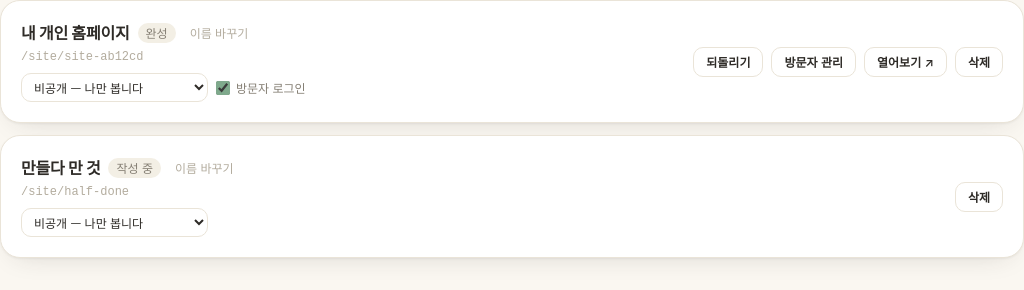
[P7-1b] 프로젝트 이름 바꾸기 › 빈 이름으로는 저장 버튼이 눌리지 않는다
Click the button "이름 바꾸기" next to "완성" at [219, 33], box [184,23,254,43]
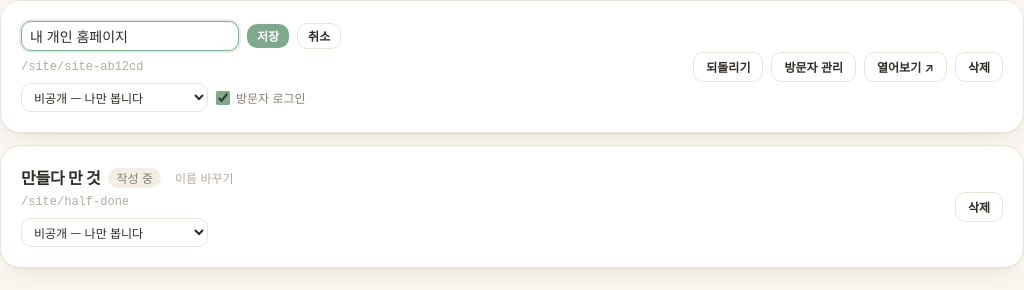
Clear the field named "프로젝트 이름" at [130, 36], box [21,21,239,51]
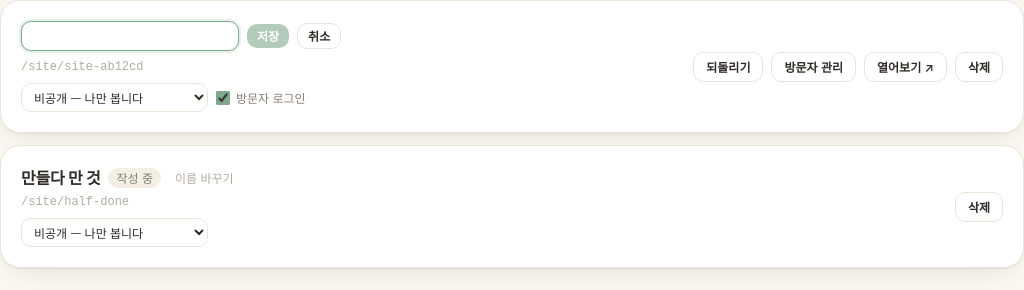
Expected: the button "저장" is disabled, [247,24,289,48]
